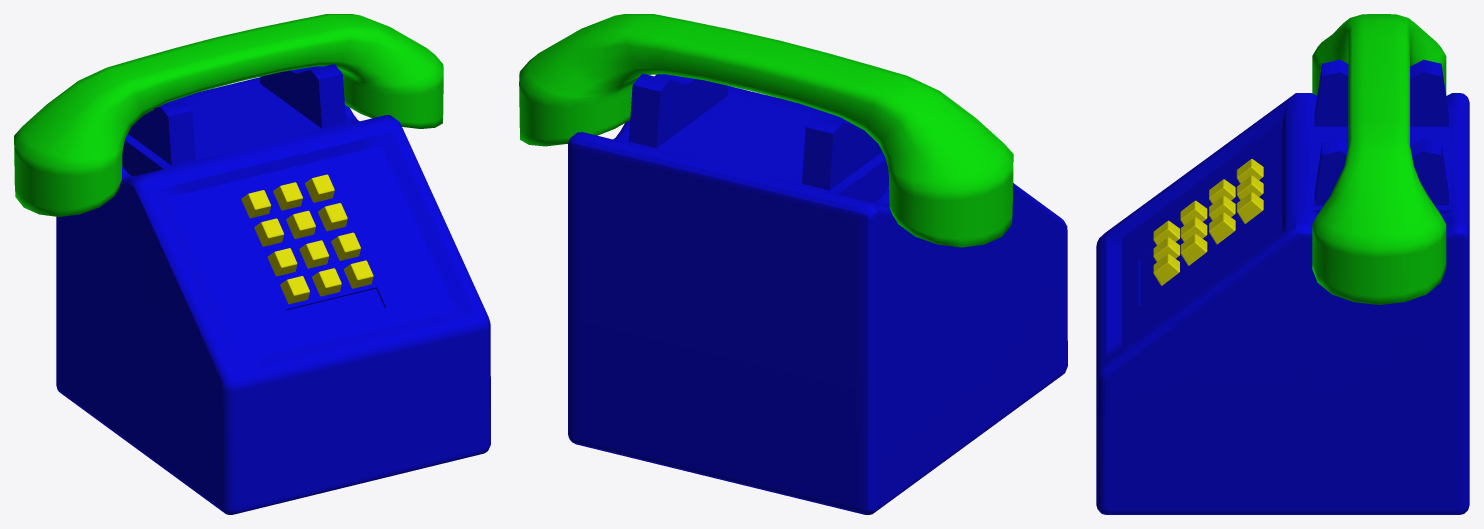
Rendered from phone.fbx.
3 renders of one model, left to right at view 1: azimuth 30°, elevation 25°; view 2: azimuth 150°, elevation 25°; view 3: azimuth 270°, elevation 25°, orthographic. The views are drawn at different scales.
Visible parts, largest first — view 1: phone; view 2: phone; view 3: phone.
Part boxes in pixels (x1=…): phone: x1=14, y1=14, x2=490, y2=514; phone: x1=519, y1=14, x2=1067, y2=514; phone: x1=1096, y1=14, x2=1469, y2=514.
Size of the model in its own units: 5.19 by 4.21 by 3.78.
